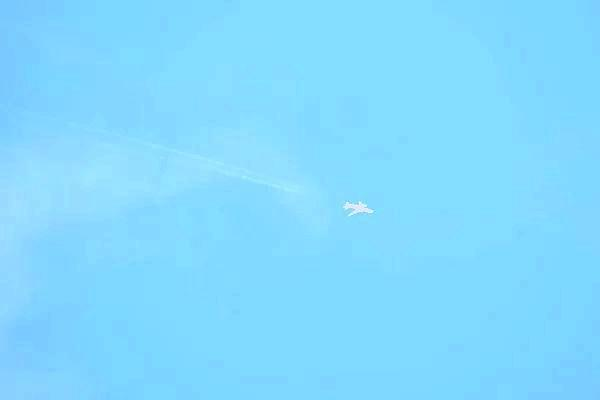Plane: (332, 194, 390, 224)
